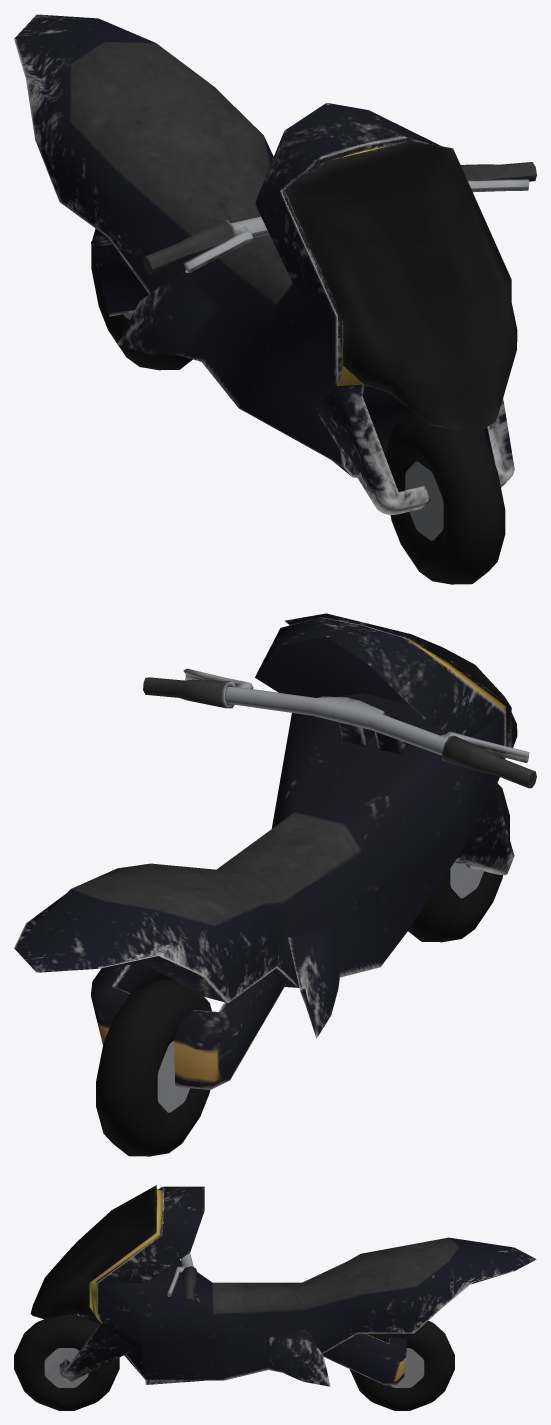
The model's file is Bike.fbx.
3 views of the same model, one above another, from view 1: azimuth 30°, elevation 25°; view 2: azimuth 150°, elevation 25°; view 3: azimuth 270°, elevation 25° (orthographic). The views are drawn at different scales.
Visible parts, largest first — view 1: Bike; view 2: Bike; view 3: Bike.
Part boxes in pixels (bbox=[...]): Bike: bbox=[14, 14, 536, 584]; Bike: bbox=[14, 613, 536, 1156]; Bike: bbox=[14, 1185, 536, 1410].
Bounding box in the file's own units: 137 × 132 × 281.
